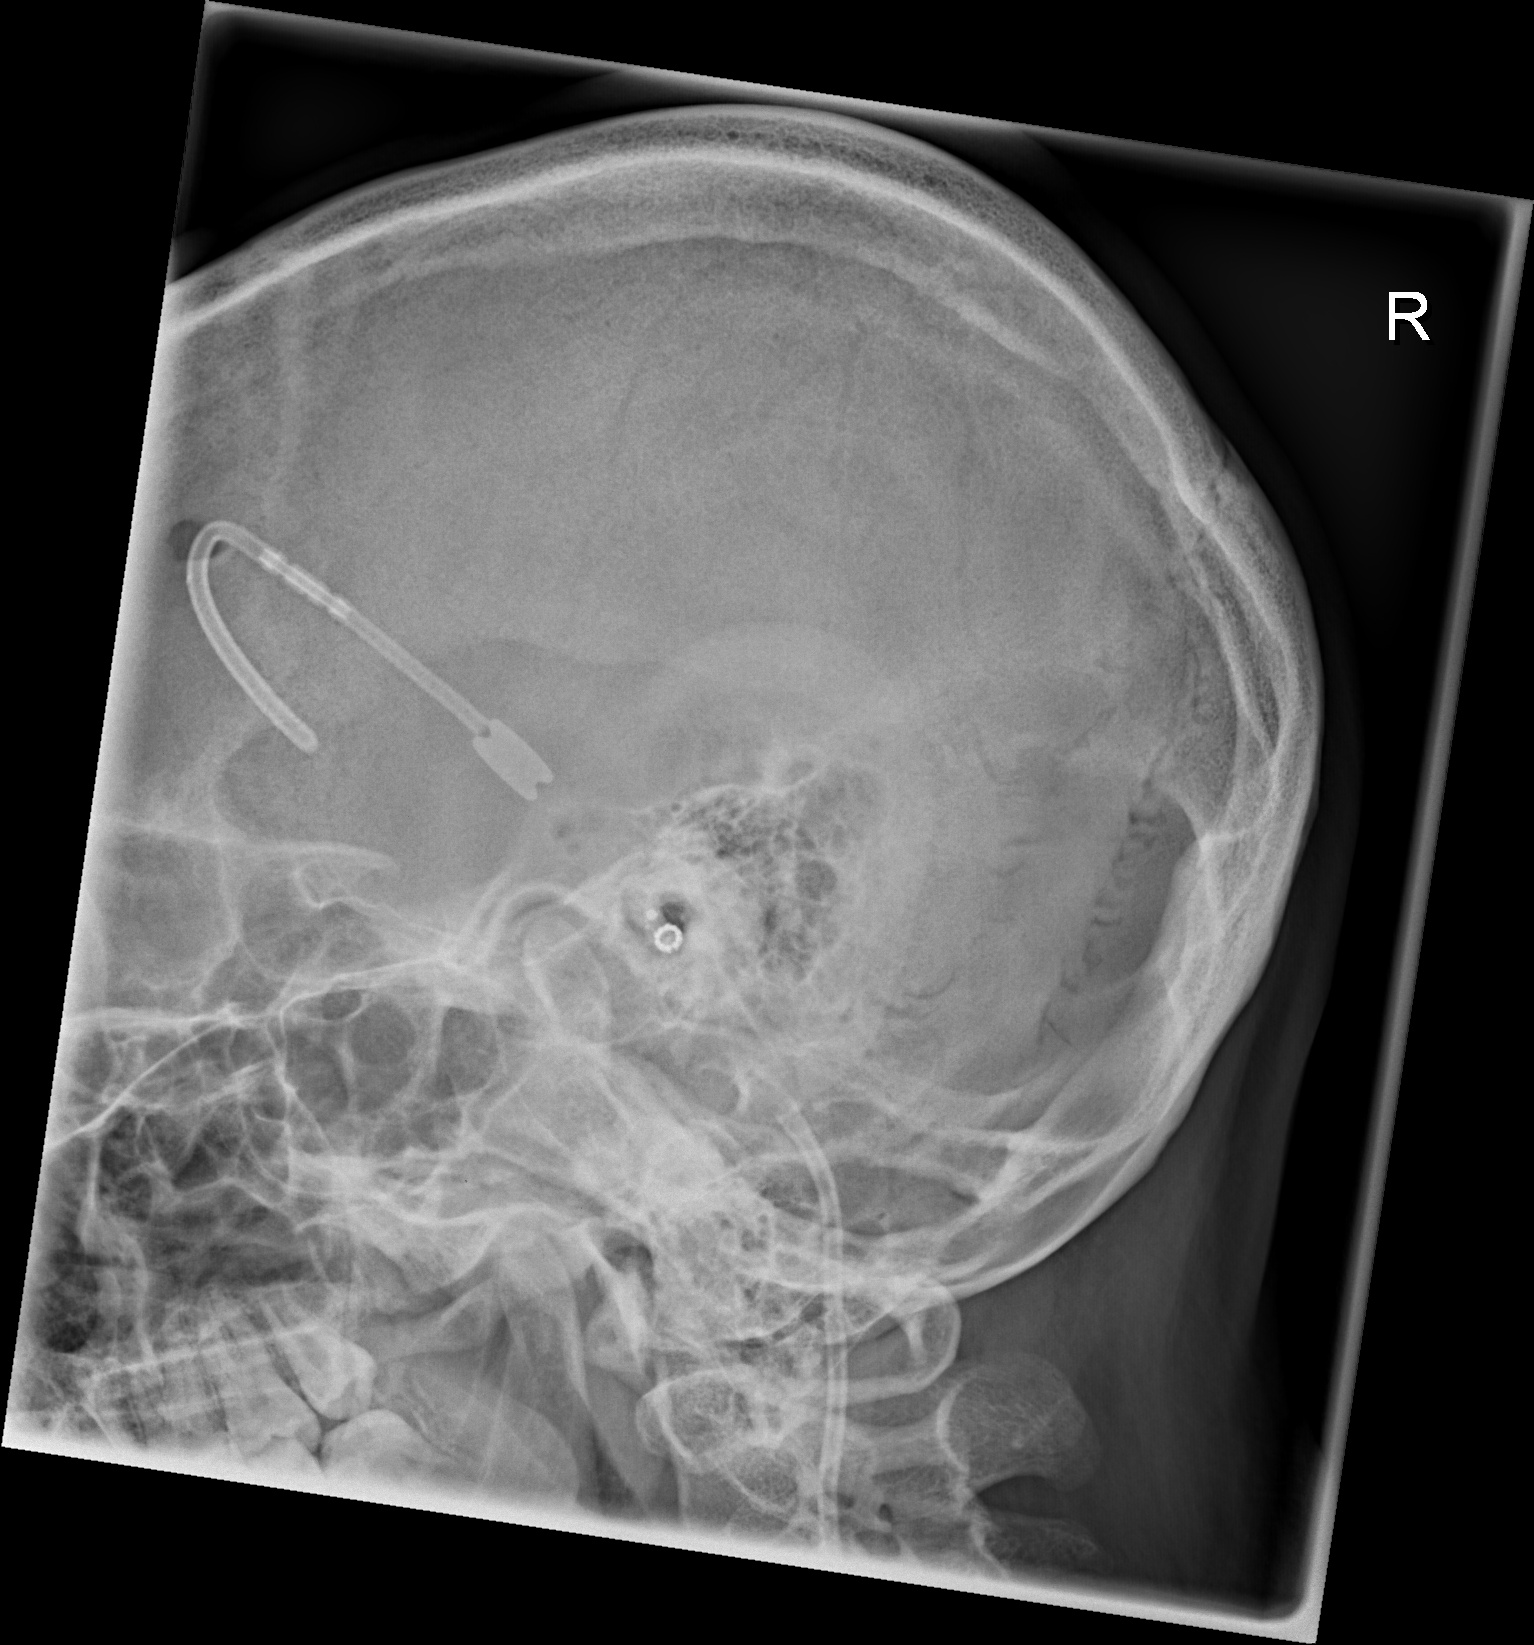Codman Hakim: (629, 892, 701, 967)
